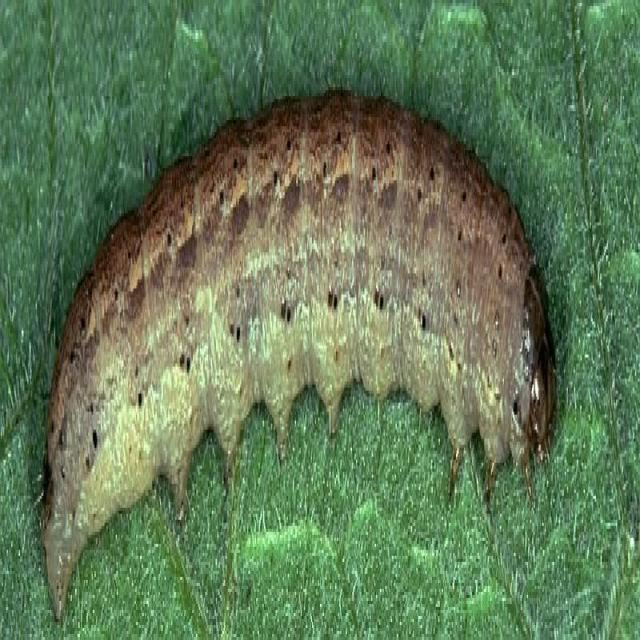worm: (40, 85, 560, 620)
